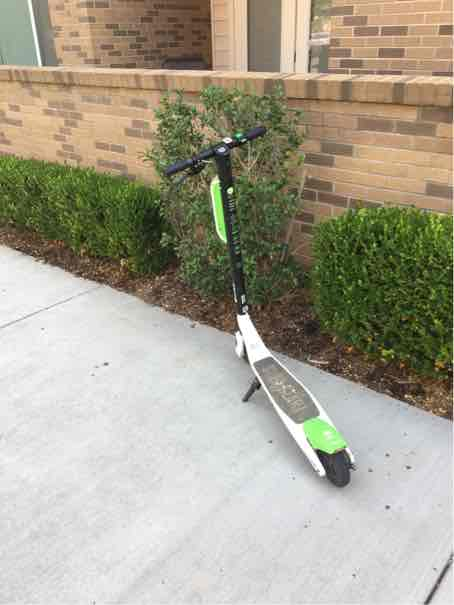scooter: (160, 125, 361, 488)
